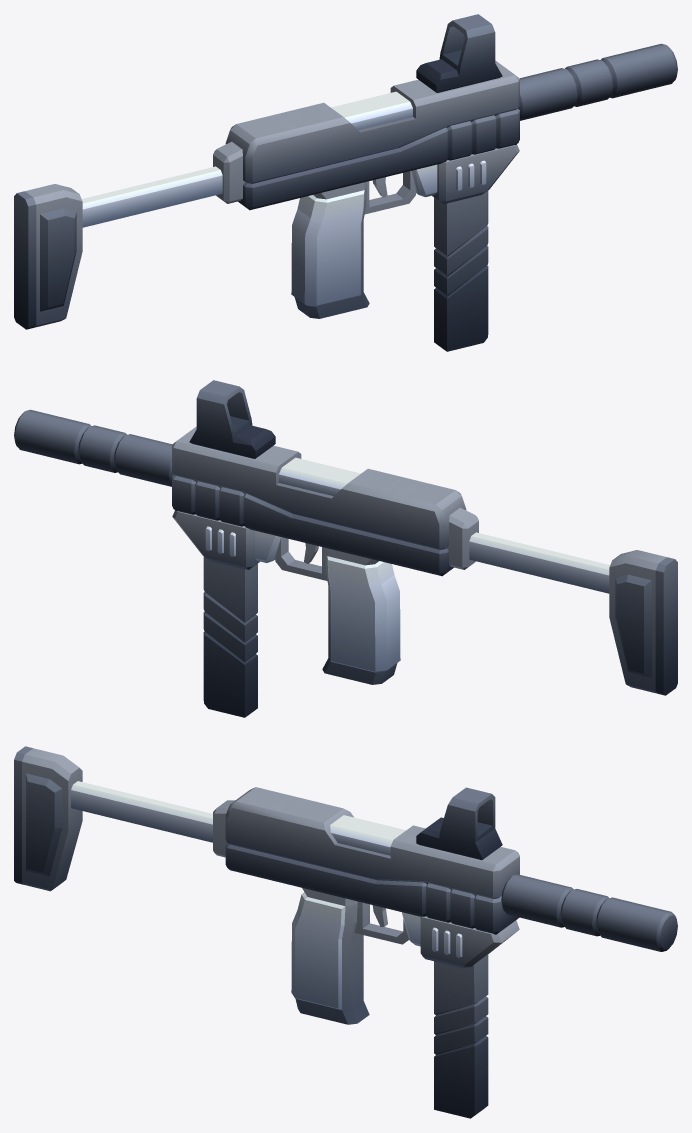
The model's file is Weapon3.FBX.
The picture shows the model from 3 angles, top to bottom: view 1: azimuth 30°, elevation 25°; view 2: azimuth 150°, elevation 25°; view 3: azimuth 330°, elevation 25°; orthographic projection.
Visible parts, largest first — view 1: Box026; view 2: Box026; view 3: Box026.
Boxes of the visible parts, bbox=[...] form: Box026: bbox=[14, 14, 677, 351]; Box026: bbox=[14, 380, 677, 717]; Box026: bbox=[14, 746, 677, 1118].
Size of the model in its own units: 53.61 by 25.06 by 3.71.
